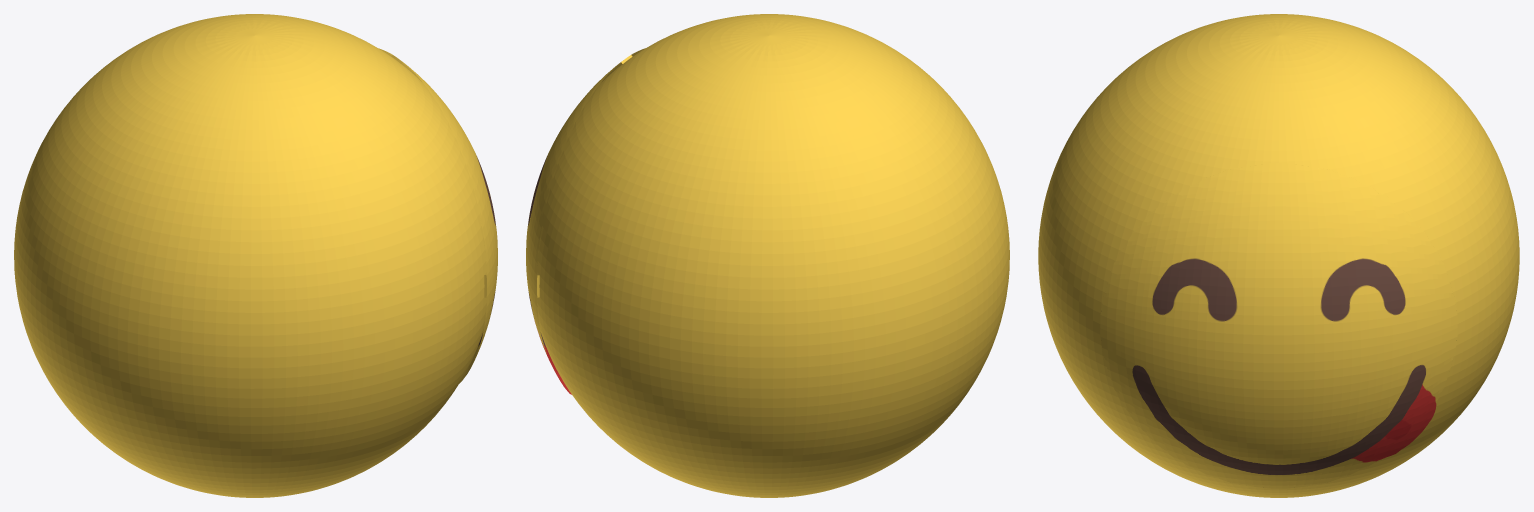
Rendered from tounge.fbx.
The picture shows the model from 3 angles, left to right: view 1: azimuth 30°, elevation 25°; view 2: azimuth 150°, elevation 25°; view 3: azimuth 270°, elevation 25°; orthographic projection.
Parts seen in each view (by area): view 1: 球体, tongue; view 2: 球体, tongue; view 3: 球体, tongue.
Part boxes in pixels (x1,y1,x2,y2): 球体: (14, 14, 486, 497); tongue: (379, 48, 497, 383); 球体: (537, 14, 1009, 497); tongue: (526, 48, 645, 394); 球体: (1038, 14, 1519, 497); tongue: (1100, 163, 1457, 488).
Bounding box in the file's own units: 198 × 200 × 197.
